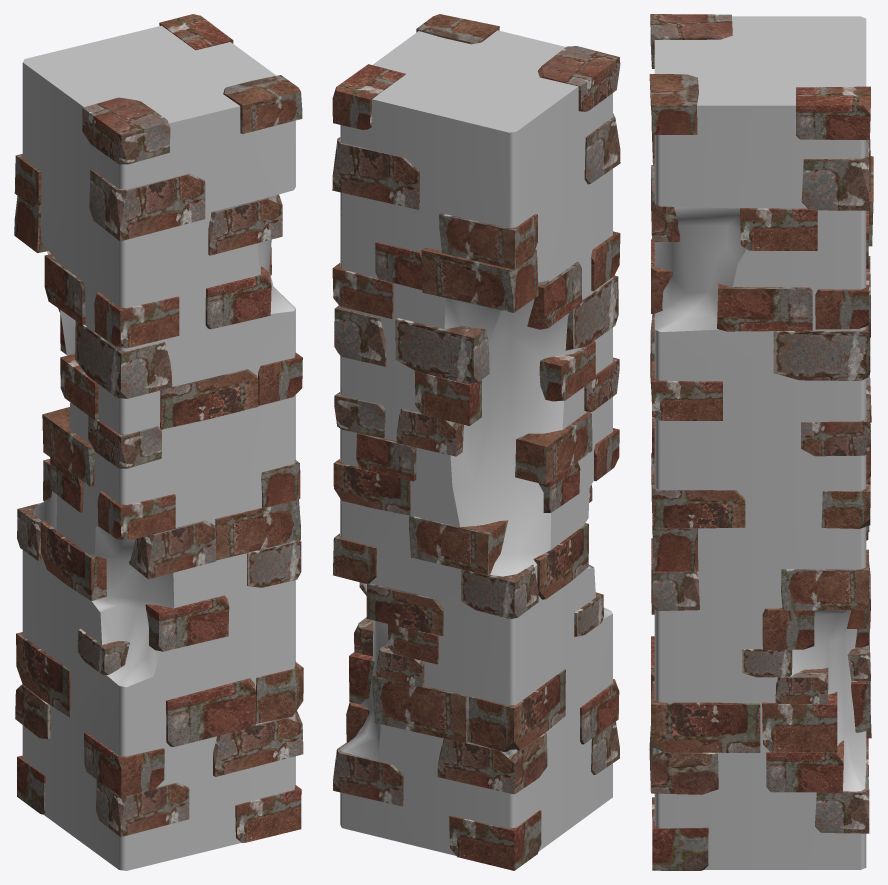
File: SM_Brick_Column_Ruined_01.fbx
3 renders of one model, left to right at view 1: azimuth 30°, elevation 25°; view 2: azimuth 150°, elevation 25°; view 3: azimuth 270°, elevation 25°, orthographic. The views are drawn at different scales.
Parts seen in each view (by area): view 1: SM_Brick_Column_Ruined_01_LOD0; view 2: SM_Brick_Column_Ruined_01_LOD0; view 3: SM_Brick_Column_Ruined_01_LOD0.
Part boxes in pixels (left/top/right/bottom): SM_Brick_Column_Ruined_01_LOD0: left=14, top=14, right=303, bottom=870; SM_Brick_Column_Ruined_01_LOD0: left=332, top=14, right=620, bottom=870; SM_Brick_Column_Ruined_01_LOD0: left=649, top=14, right=873, bottom=870.
Size of what is drawn, in the model's own units: 159 by 603 by 159.
